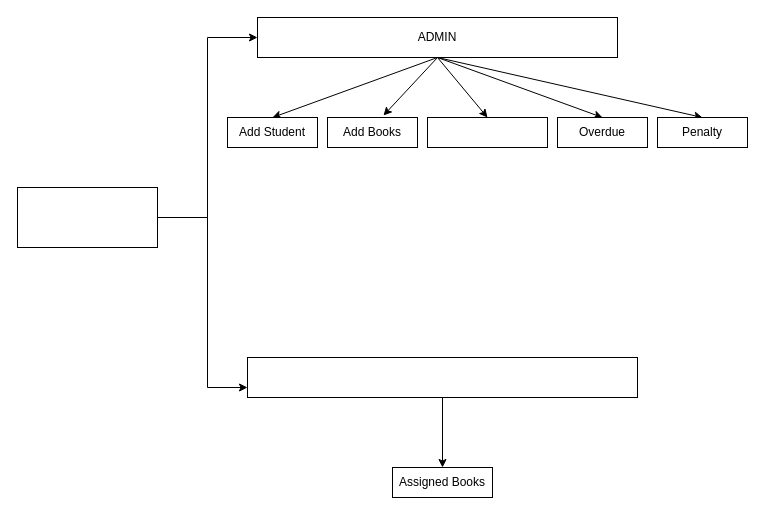
Image size: 765x515. Some labels were removed from this diagram. Each missing label, with the box of its shape:
Assign Books: (426, 116, 548, 148)
Software Application: (16, 186, 158, 248)
STUDENT: (246, 356, 638, 398)
